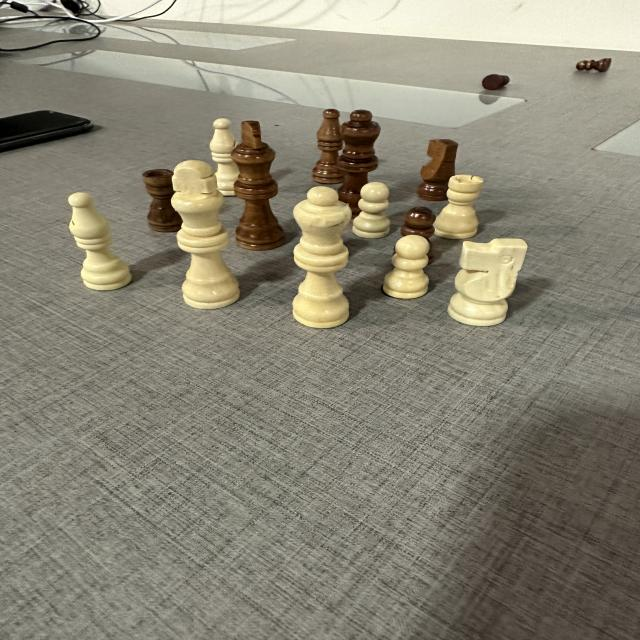Black-Bishop: (312, 108, 346, 184)
Black-King: (230, 120, 286, 250)
Black-Knight: (419, 137, 458, 201)
Black-Pawn: (402, 205, 435, 239), (576, 57, 614, 72), (483, 74, 510, 90)
Black-Queen: (333, 110, 381, 186)
Black-Rook: (143, 168, 182, 232)
White-Bishop: (67, 191, 132, 292), (208, 119, 241, 198)
White-King: (172, 160, 240, 309)
White-Knight: (446, 237, 528, 326)
White-Pawn: (381, 233, 430, 299), (353, 182, 390, 239)
White-Queen: (292, 186, 350, 328)
White-Rook: (433, 174, 483, 238)
